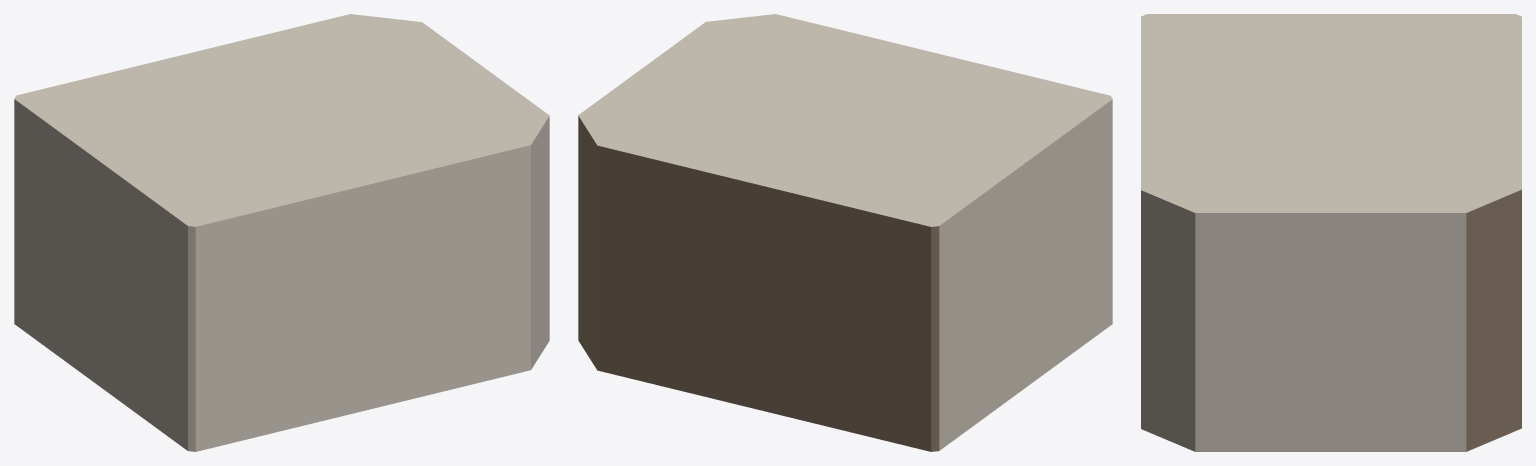
Rendered from loin-etape-1.glb.
3 renders of one model, left to right at view 1: azimuth 30°, elevation 25°; view 2: azimuth 150°, elevation 25°; view 3: azimuth 270°, elevation 25°, orthographic. The views are drawn at different scales.
Visible parts, largest first — view 1: loin; view 2: loin; view 3: loin.
Part boxes in pixels (left/top/right/bottom): loin: left=14, top=14, right=549, bottom=451; loin: left=578, top=14, right=1112, bottom=451; loin: left=1141, top=14, right=1521, bottom=451.
Size of the model in its own units: 0.8175 by 0.4573 by 0.6608.
